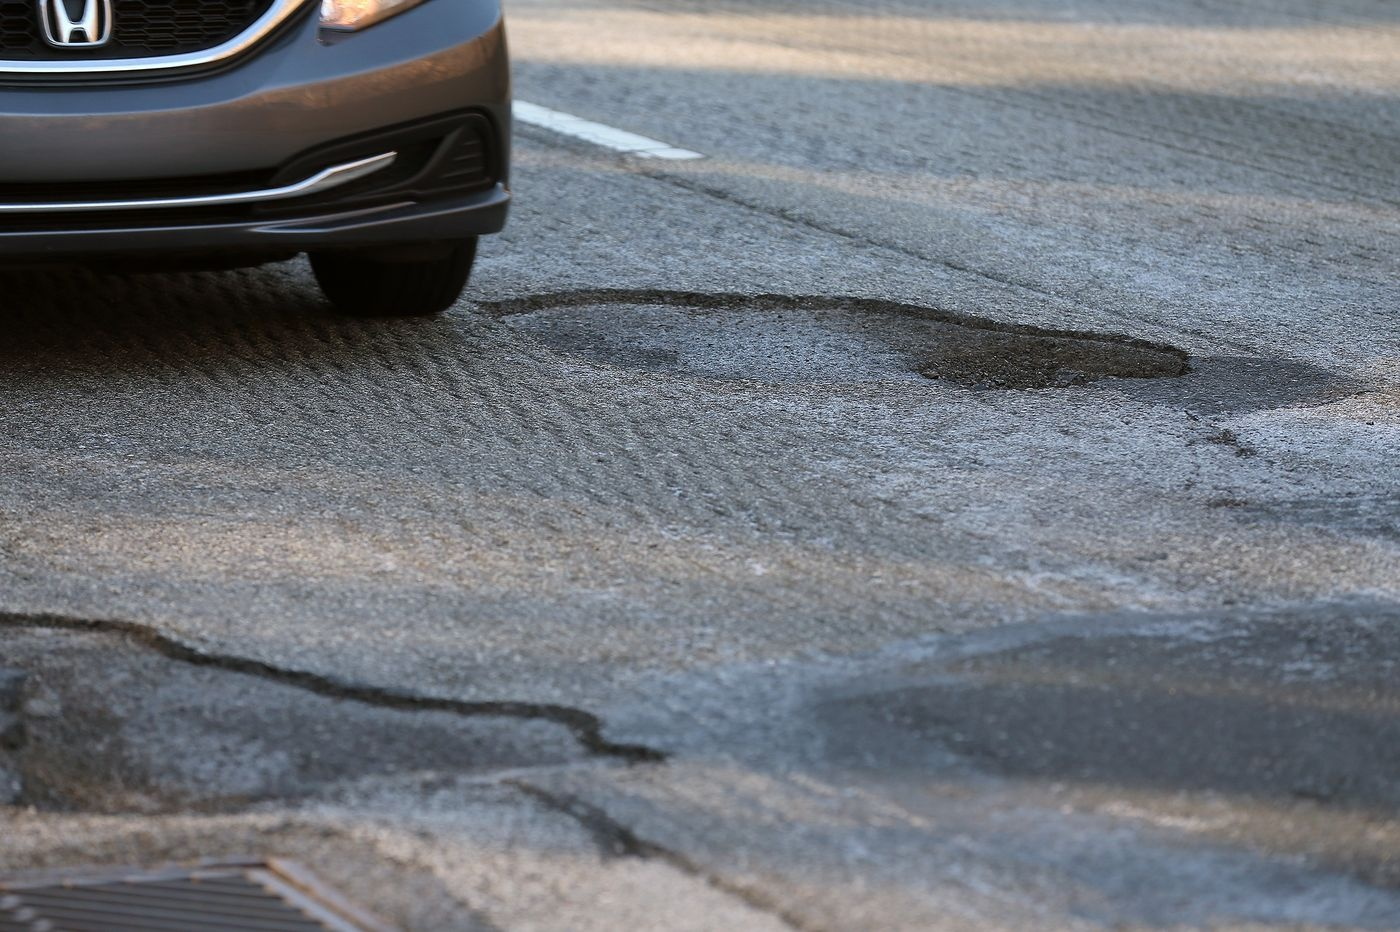pothole: (415, 180, 1343, 472)
